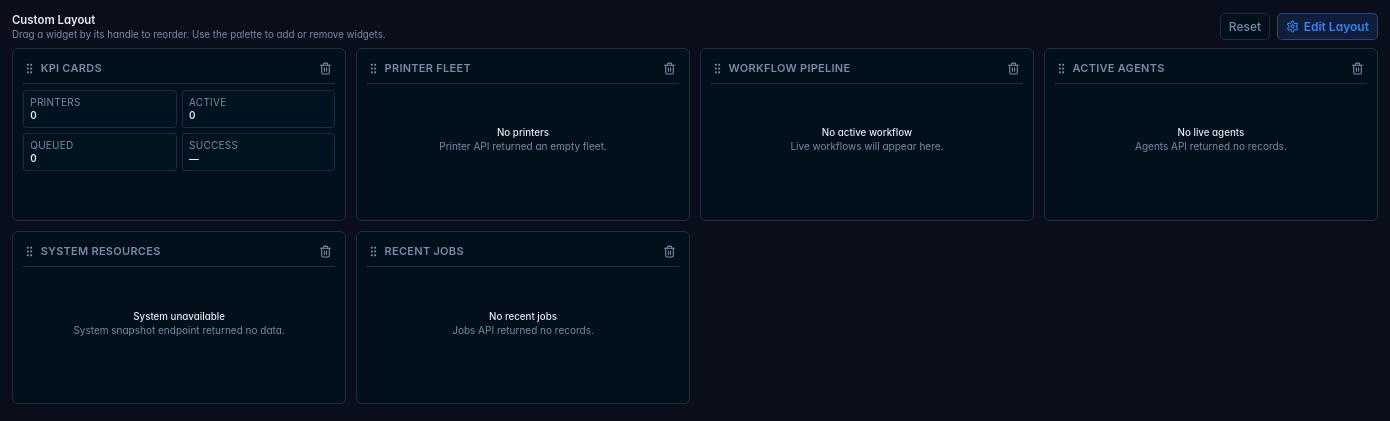
Test: DashboardCustom › adding a widget from the palette appends it to the grid
Click the button with test id "dashboard-custom-edit-btn": (1327, 27) [1277,13,1378,40]
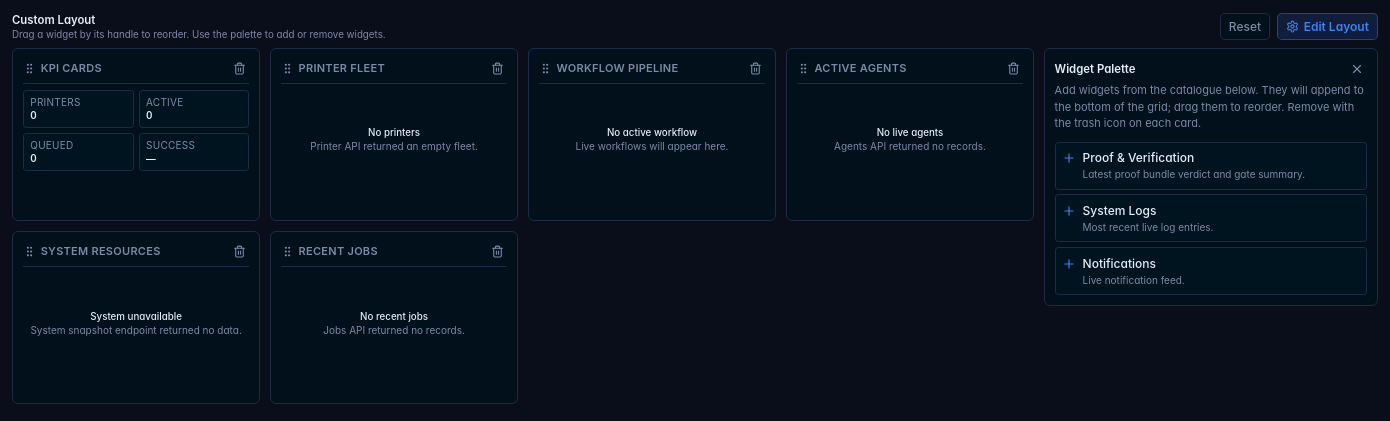
# "logs" is not in the default layout so it should appear in the palette.
Click the button with test id "dashboard-custom-add-logs": (1211, 218) [1055,194,1367,242]
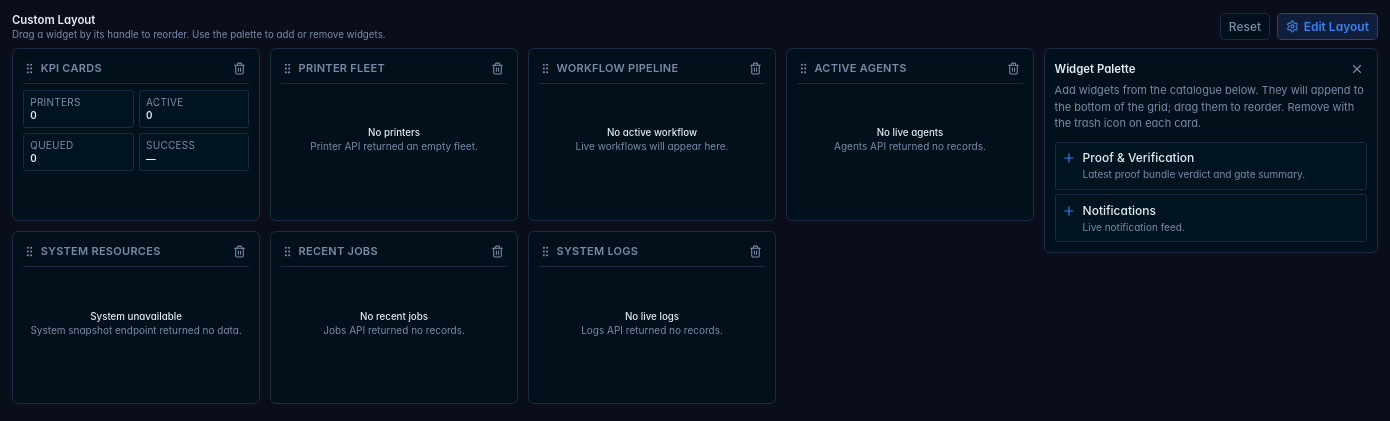
Expected: the element with test id "dashboard-custom-widget-logs" is shown, [528,231,776,404]
